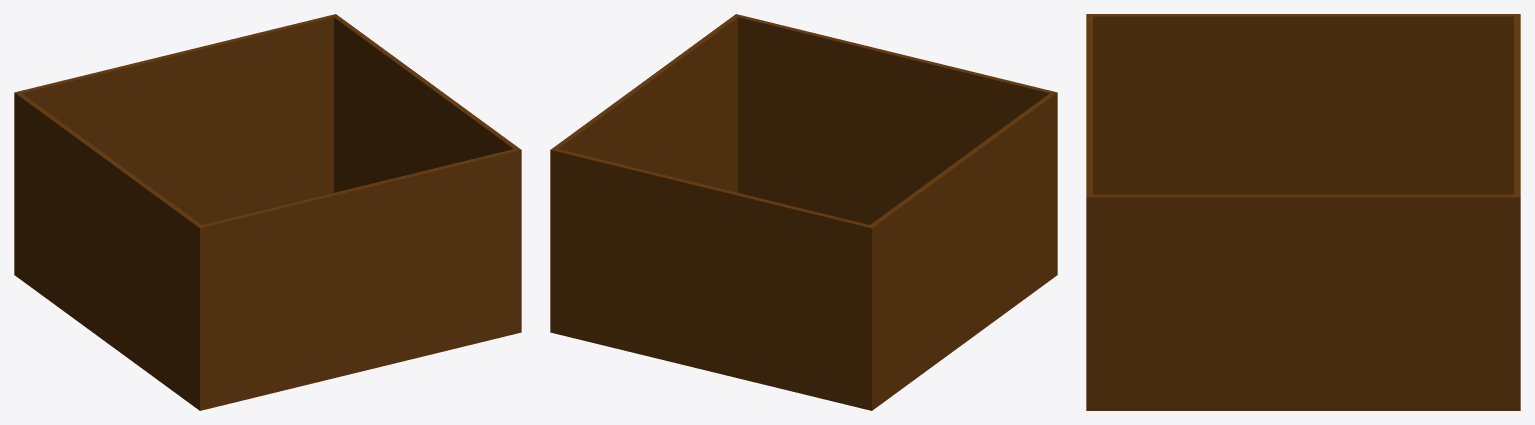
File: ruum.glb
3 renders of one model, left to right at view 1: azimuth 30°, elevation 25°; view 2: azimuth 150°, elevation 25°; view 3: azimuth 270°, elevation 25°, orthographic. The views are drawn at different scales.
Parts seen in each view (by area): view 1: base; view 2: base; view 3: base.
Boxes of the visible parts, x1,y1,x2,y2 form: base: (14, 14, 521, 410); base: (550, 14, 1057, 410); base: (1086, 14, 1520, 410).
Size of the model in its own units: 8 by 4.34 by 8.
